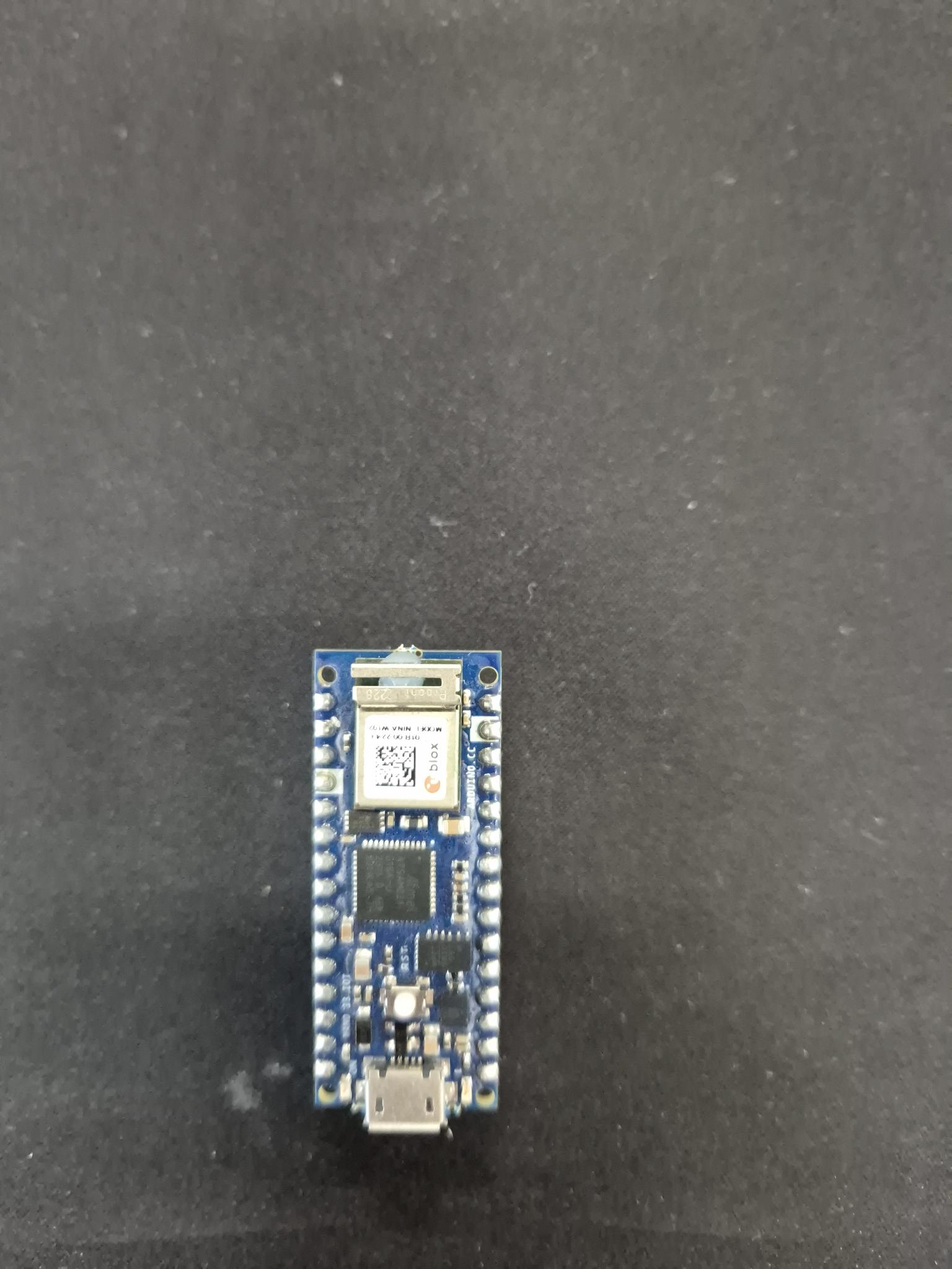arduino-nano-iot-33: (311, 645, 502, 1138)
